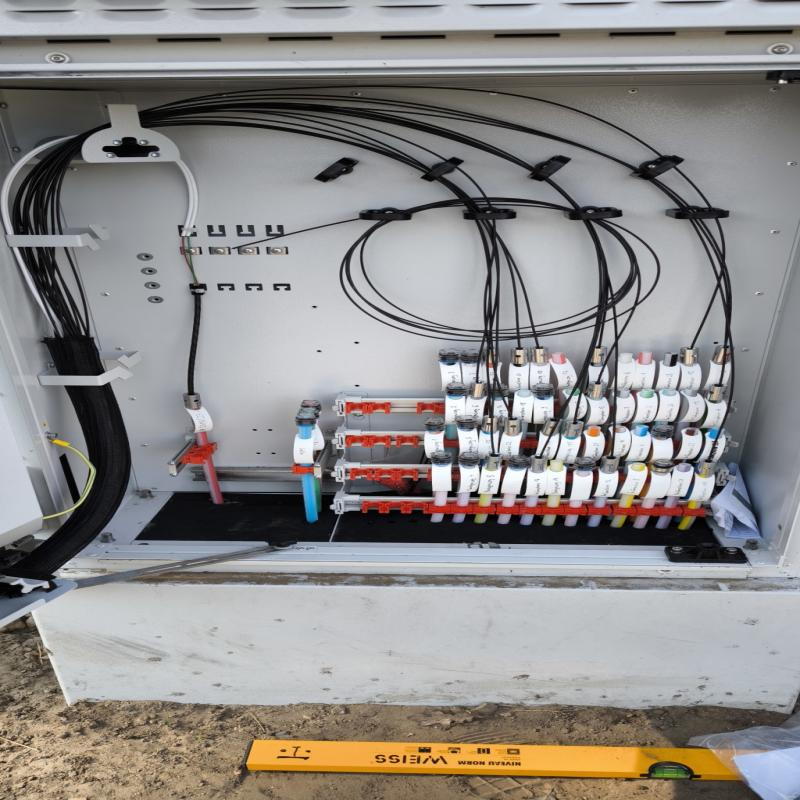NT-Gehause: (0, 1, 800, 712)
